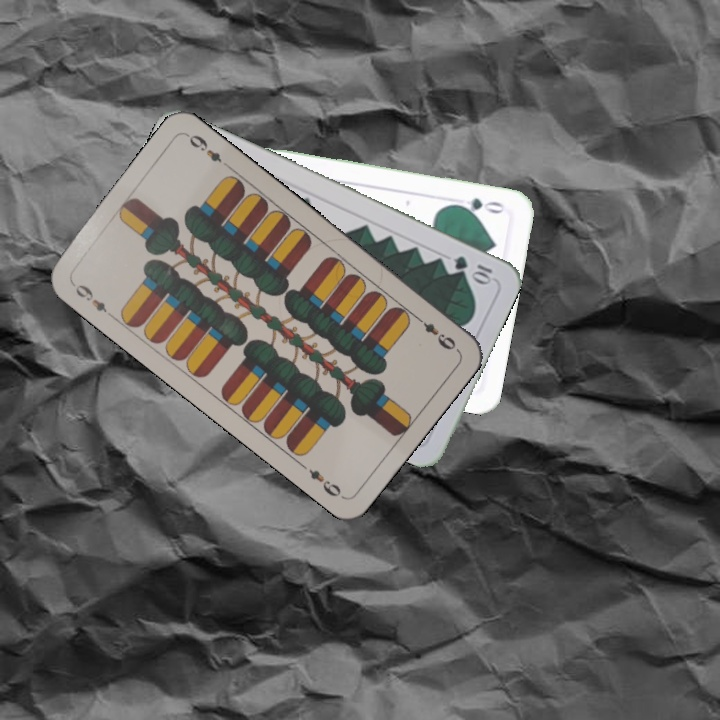E9: (67, 278, 117, 321), (411, 311, 459, 353)
G10: (450, 251, 496, 286)
GO: (449, 193, 507, 217)
